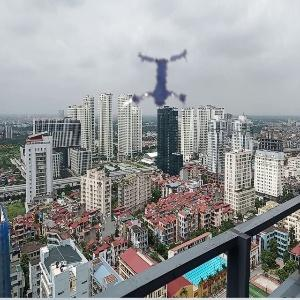drone: (116, 45, 210, 139)
